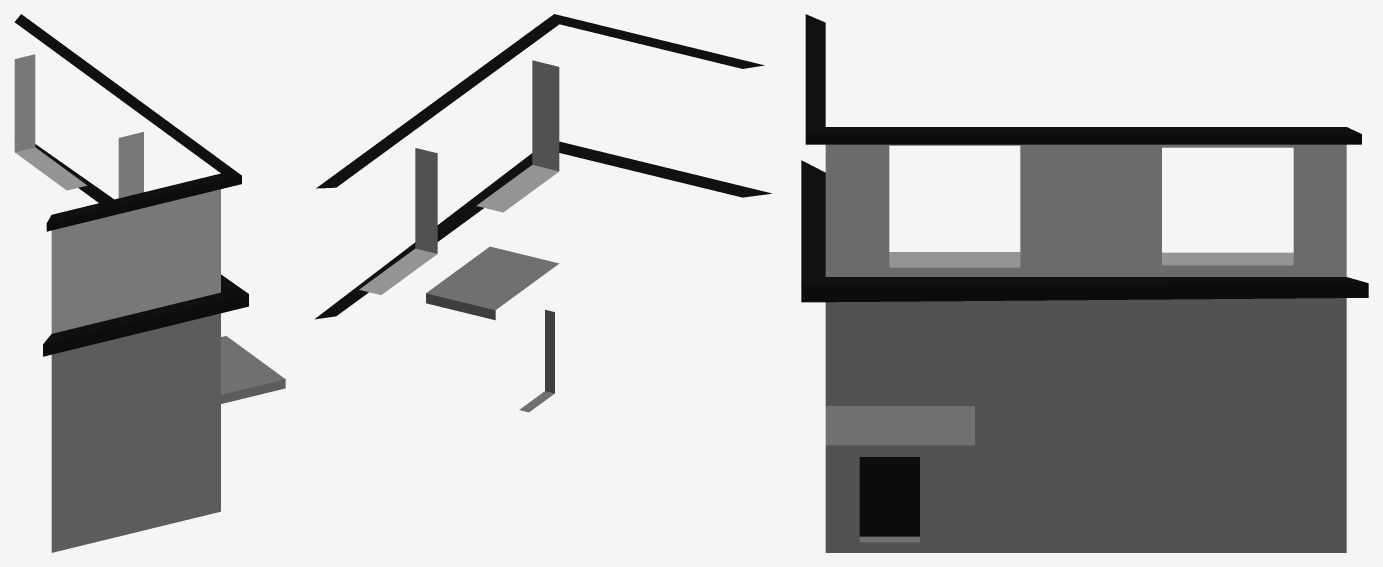
The model's file is dom1.glb.
The picture shows the model from 3 angles, left to right: view 1: azimuth 30°, elevation 25°; view 2: azimuth 150°, elevation 25°; view 3: azimuth 270°, elevation 25°; orthographic projection. The views are drawn at different scales.
Visible parts, largest first — view 1: Cube; view 2: Cube; view 3: Cube.
Boxes of the visible parts, x1,y1,x2,y2 form: Cube: [14, 14, 285, 552]; Cube: [315, 14, 771, 412]; Cube: [801, 14, 1368, 552].
Bounding box in the file's own units: 2.97 × 3.82 × 4.6.
Materials: 1 (1 with a texture image).
